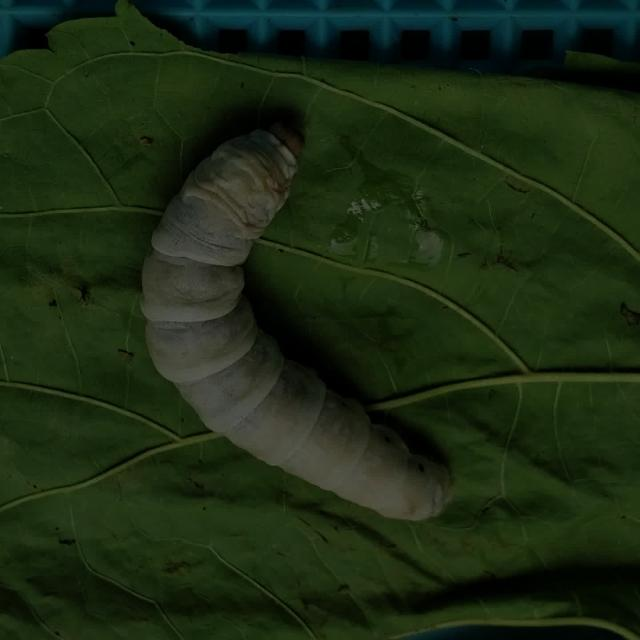Grasserie: (106, 82, 470, 539)
